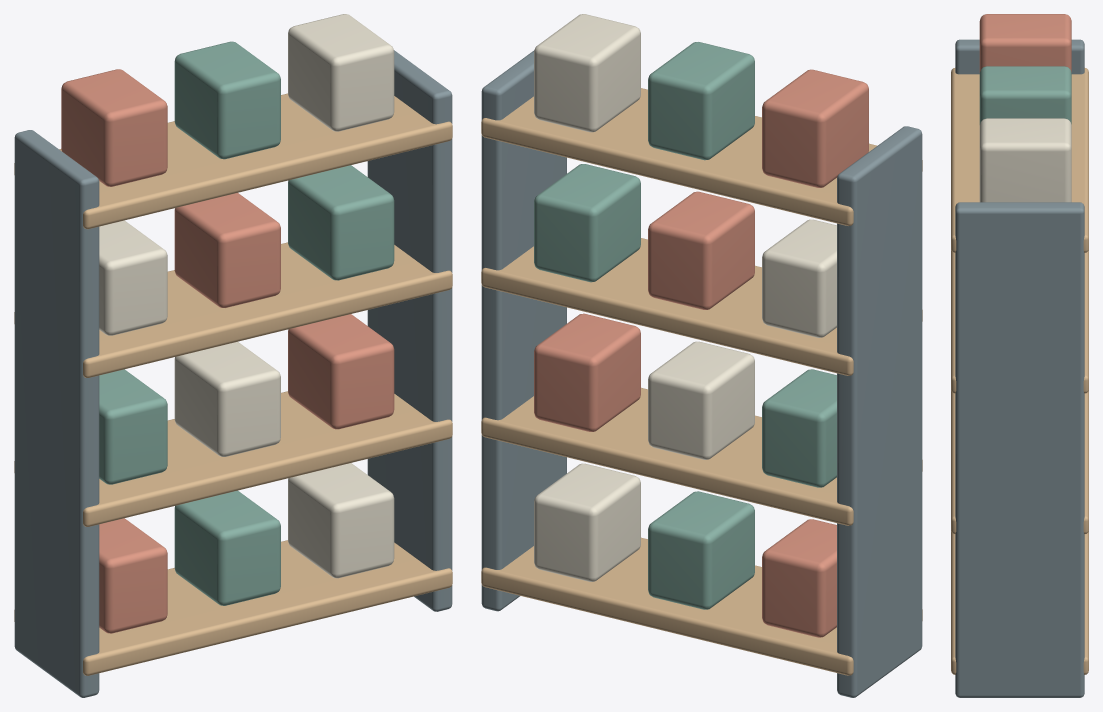
The model's file is alpha_shelf.glb.
3 renders of one model, left to right at view 1: azimuth 30°, elevation 25°; view 2: azimuth 150°, elevation 25°; view 3: azimuth 270°, elevation 25°, orthographic. The views are drawn at different scales.
Parts seen in each view (by area): view 1: Alpha_metal, Alpha_lightwood, Alpha_sage, Alpha_cream, Alpha_coral; view 2: Alpha_metal, Alpha_lightwood, Alpha_cream, Alpha_sage, Alpha_coral; view 3: Alpha_metal, Alpha_lightwood, Alpha_cream, Alpha_coral, Alpha_sage.
Boxes of the visible parts, <box> form: Alpha_metal: <box>14,50,452,697</box>; Alpha_lightwood: <box>14,93,452,675</box>; Alpha_sage: <box>99,41,394,605</box>; Alpha_cream: <box>99,14,394,578</box>; Alpha_coral: <box>61,69,394,633</box>; Alpha_metal: <box>481,50,922,697</box>; Alpha_lightwood: <box>481,88,922,675</box>; Alpha_cream: <box>534,14,836,581</box>; Alpha_sage: <box>534,42,836,609</box>; Alpha_coral: <box>534,69,868,637</box>; Alpha_metal: <box>955,39,1084,697</box>; Alpha_lightwood: <box>951,68,1088,674</box>; Alpha_cream: <box>979,118,1071,202</box>; Alpha_coral: <box>979,14,1071,72</box>; Alpha_sage: <box>979,66,1071,124</box>.
Size of the model in its own units: 1.42 by 2.05 by 0.48.
